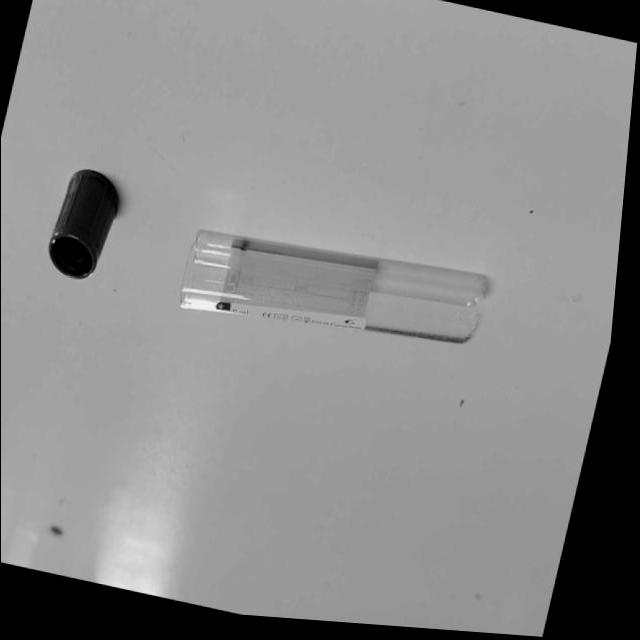General: (46, 166, 121, 280)
Sharps: (179, 227, 490, 343)
